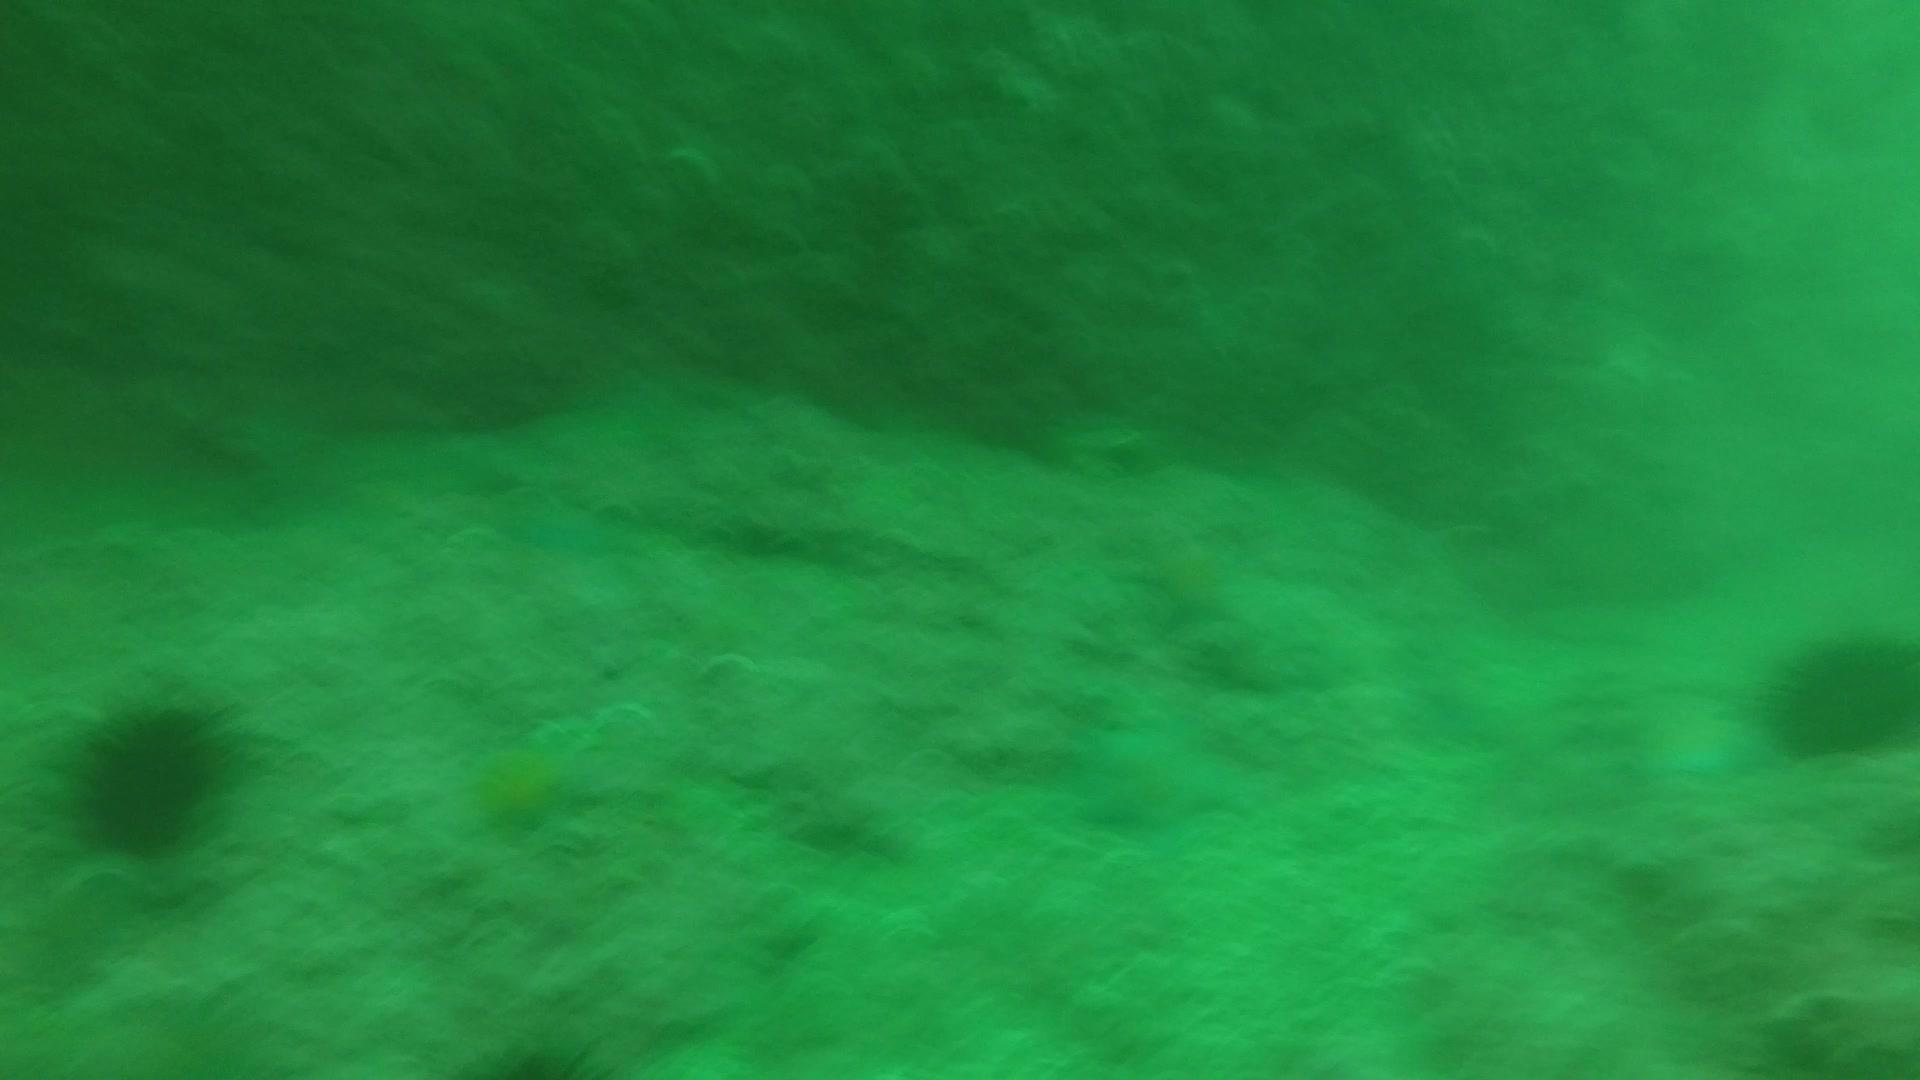echinus: (61, 690, 237, 862), (1756, 620, 1917, 765)
starfish: (1068, 708, 1250, 837), (458, 727, 607, 844), (1631, 694, 1772, 786), (1130, 527, 1247, 633)
